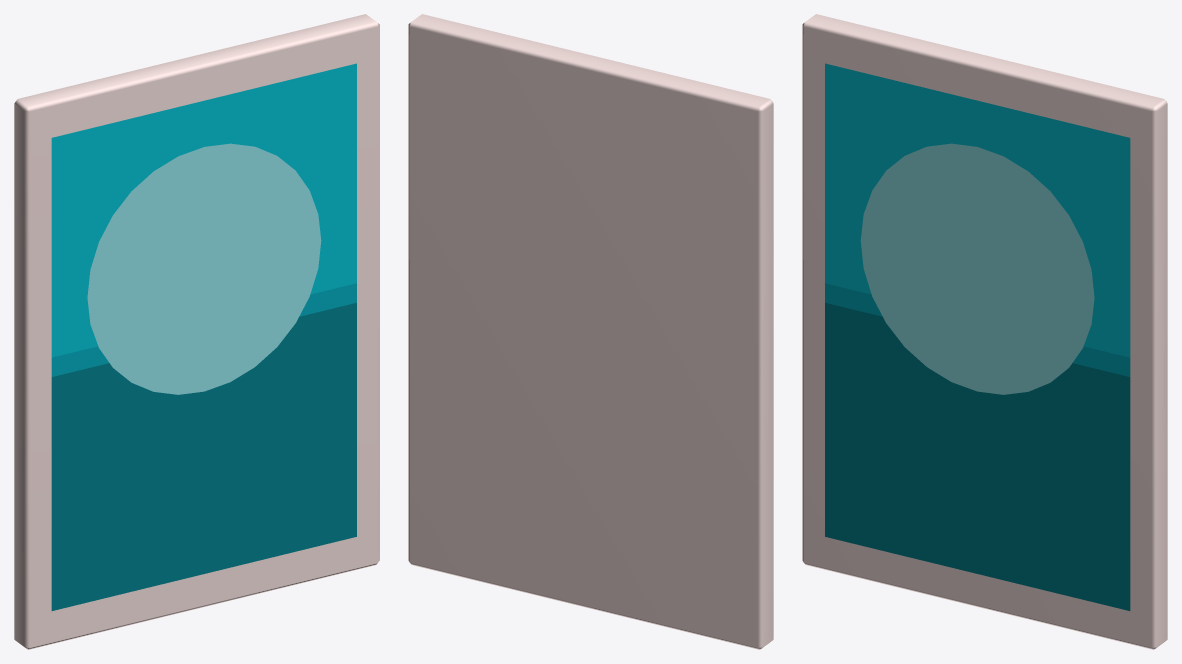
Rendered from Public_4_Cinema_Poster_2.glb.
The picture shows the model from 3 angles, left to right: view 1: azimuth 30°, elevation 25°; view 2: azimuth 150°, elevation 25°; view 3: azimuth 330°, elevation 25°; orthographic projection.
Parts seen in each view (by area): view 1: Public_4_Cinema_Poster_2; view 2: Public_4_Cinema_Poster_2; view 3: Public_4_Cinema_Poster_2.
Boxes of the visible parts, x1,y1,x2,y2 form: Public_4_Cinema_Poster_2: (14, 14, 379, 649); Public_4_Cinema_Poster_2: (408, 14, 773, 649); Public_4_Cinema_Poster_2: (802, 14, 1167, 649).
Size of the model in its own units: 1.13 by 1.65 by 0.0803.
1 material, 1 textured.
